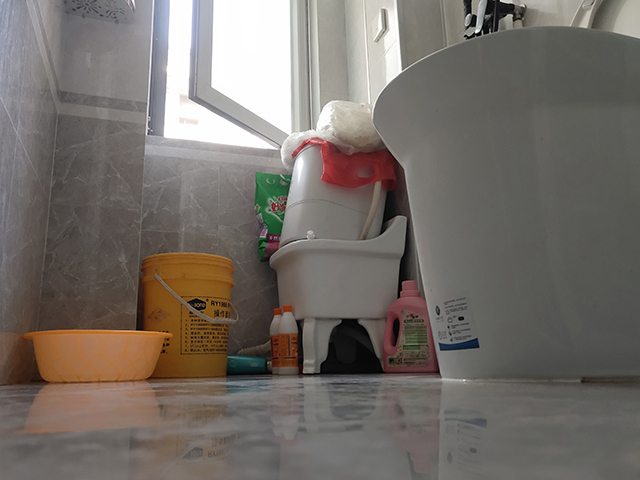closestool: (370, 1, 640, 383)
